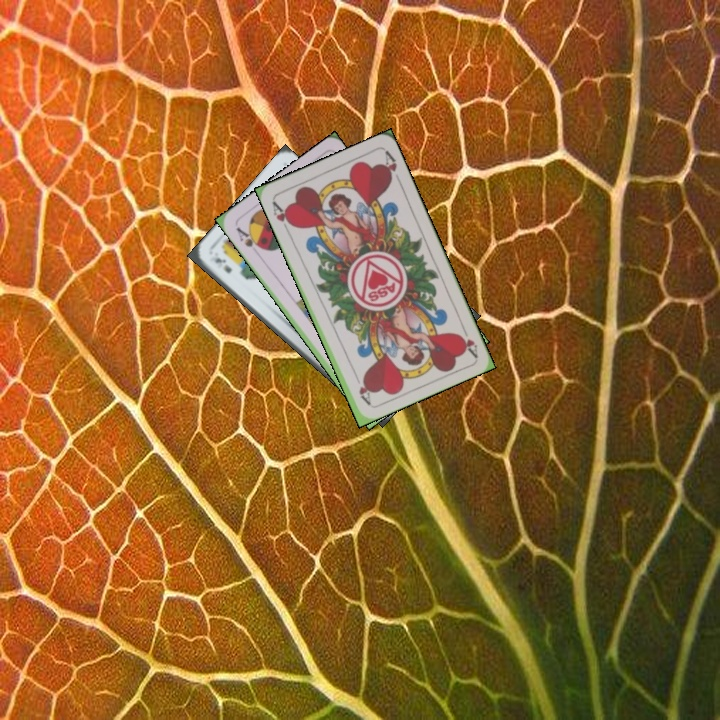EK: (210, 253, 235, 276)
HA: (268, 197, 296, 235), (454, 320, 480, 359)
SA: (232, 223, 265, 253)
